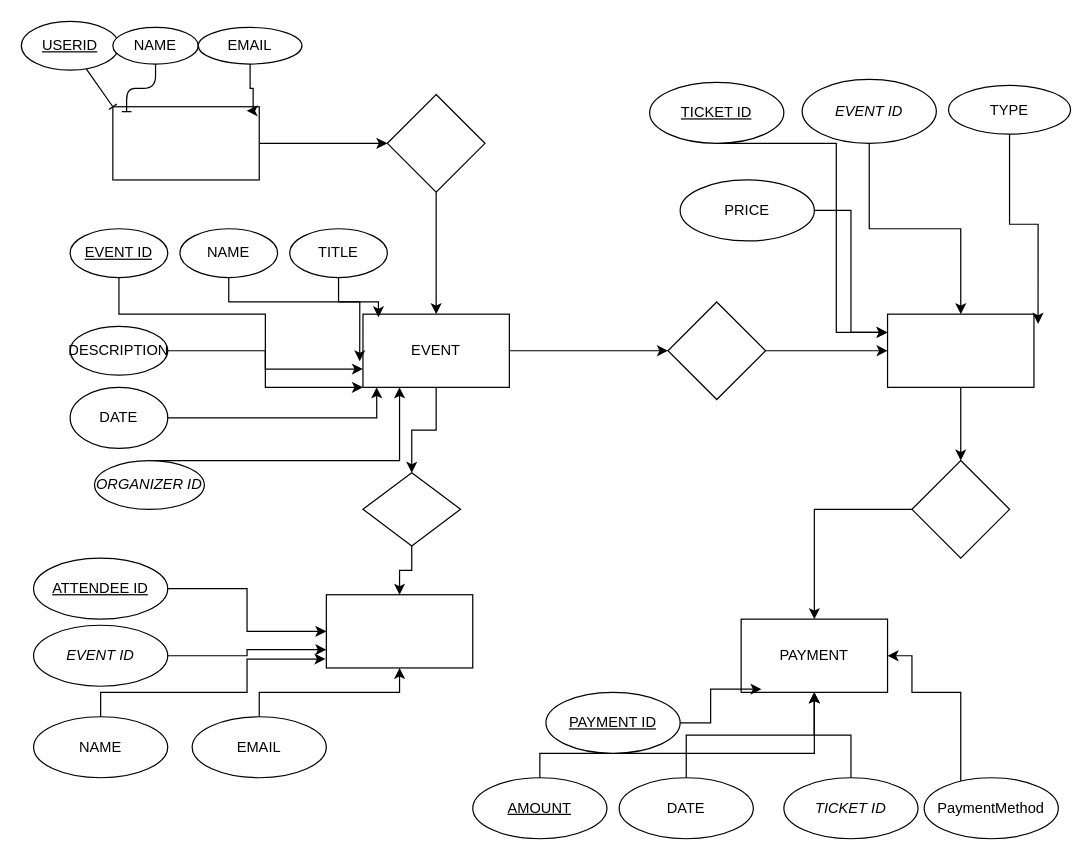
This 1092x860 diagram has some shape labels left out. The shapes that lost their labels are listed below. From the top down, each one's centre as x and y in pixels, then its label:
At point (185, 143): "USER".
At point (435, 142): "ORGANIZES".
At point (716, 350): "iNCLUDES".
At point (960, 350): "TICKET".
At point (411, 509): "REGISTERS".
At point (960, 508): "PAYS FOR".
At point (399, 631): "ATTENDEE".
